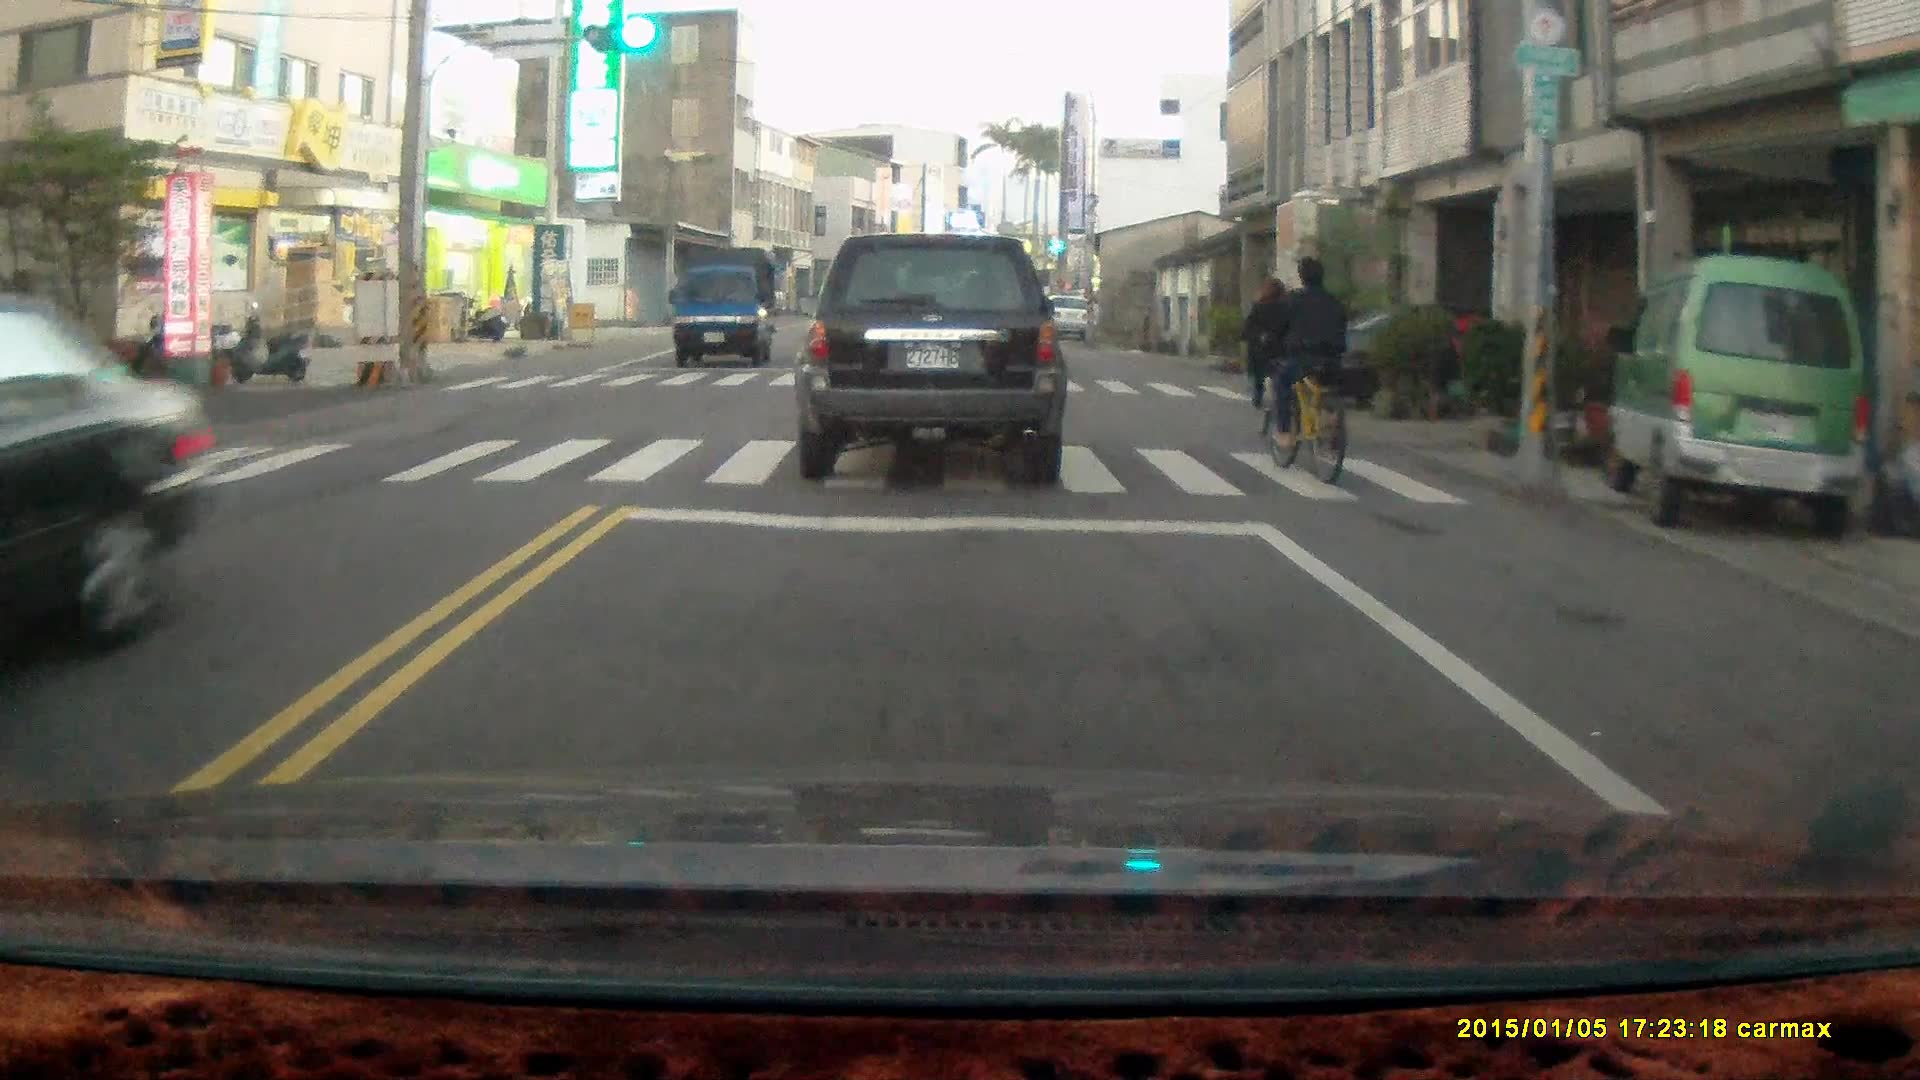rider: (1265, 253, 1356, 481), (1242, 273, 1304, 441)
vehicle: (2, 299, 216, 689), (1612, 255, 1881, 544), (797, 232, 1069, 483), (1327, 306, 1602, 422), (671, 250, 780, 368)
